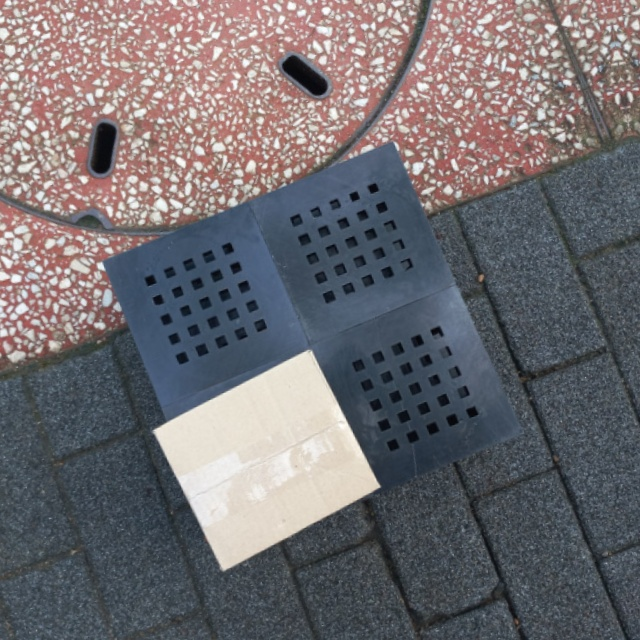box: (149, 344, 383, 577)
pallet: (92, 131, 537, 562)
